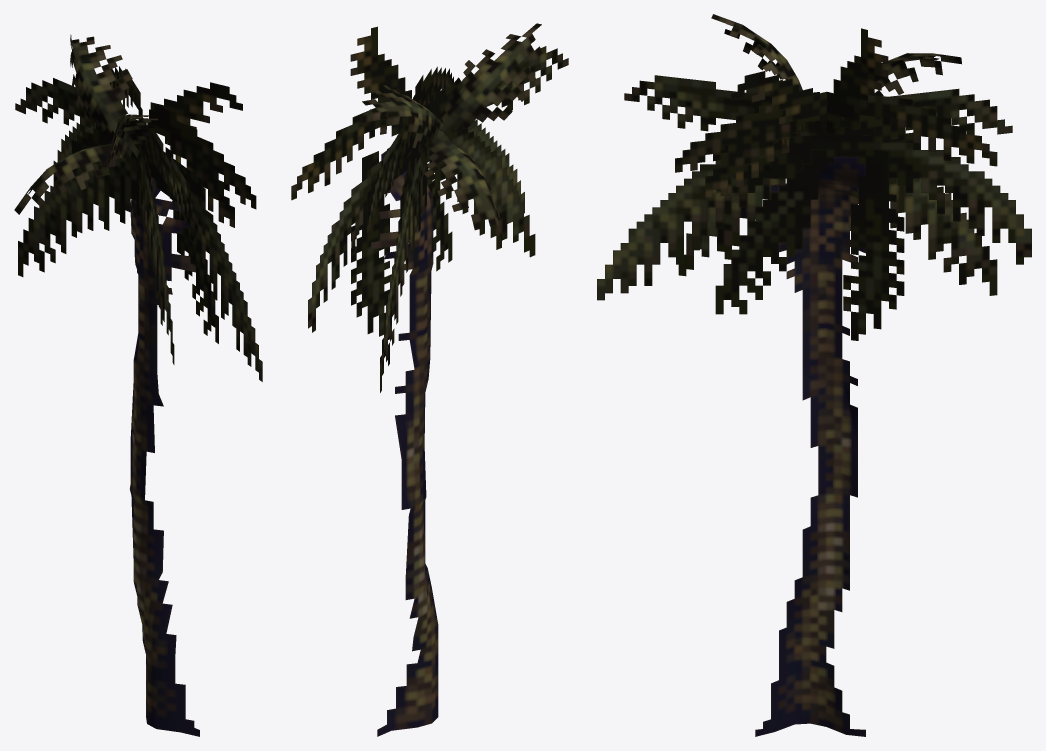
Rendered from Tree.fbx.
3 renders of one model, left to right at view 1: azimuth 30°, elevation 25°; view 2: azimuth 150°, elevation 25°; view 3: azimuth 270°, elevation 25°, orthographic. The views are drawn at different scales.
Parts seen in each view (by area): view 1: EnvFldMD_Tree_A_Palm_MA; view 2: EnvFldMD_Tree_A_Palm_MA; view 3: EnvFldMD_Tree_A_Palm_MA.
Boxes of the visible parts, x1,y1,x2,y2 form: EnvFldMD_Tree_A_Palm_MA: (14,34,262,736); EnvFldMD_Tree_A_Palm_MA: (291,23,568,736); EnvFldMD_Tree_A_Palm_MA: (597,14,1031,736).
Size of the model in its own units: 275 by 495 by 120.
2 materials, 2 textured.
